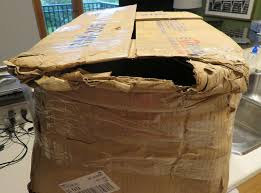damaged package: (19, 54, 241, 95)
